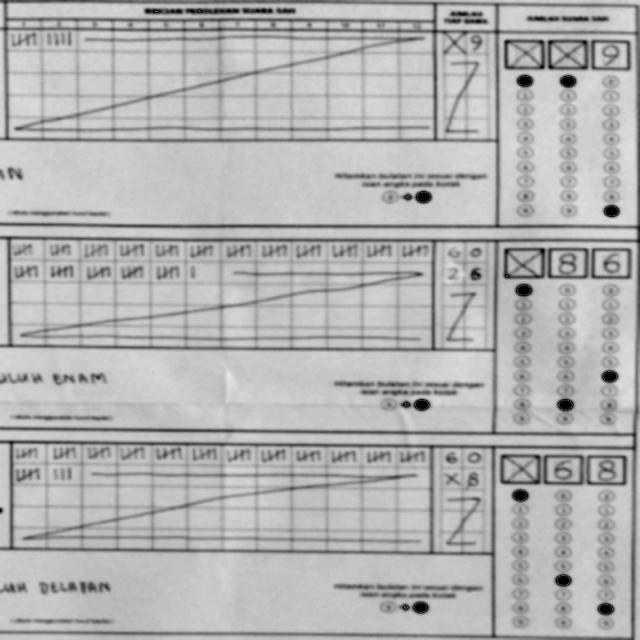Suara: (496, 24, 633, 70), (493, 447, 627, 494), (498, 237, 638, 280)
